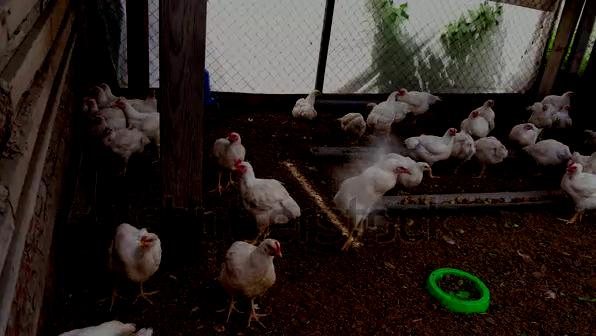Pollos: (233, 158, 302, 220), (219, 237, 284, 301), (103, 222, 165, 282), (103, 123, 151, 163), (562, 161, 596, 211), (405, 126, 455, 159), (524, 139, 573, 168), (212, 129, 249, 163), (471, 135, 508, 168), (397, 86, 437, 116), (115, 94, 154, 122), (402, 159, 435, 190), (460, 109, 491, 135), (294, 91, 321, 119), (340, 114, 368, 141), (507, 119, 537, 144), (543, 89, 578, 109)
